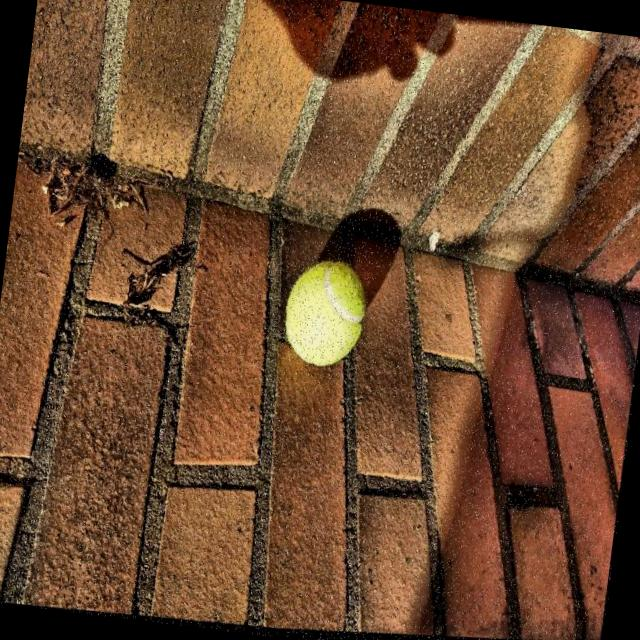tennis-ball: (274, 252, 376, 384)
